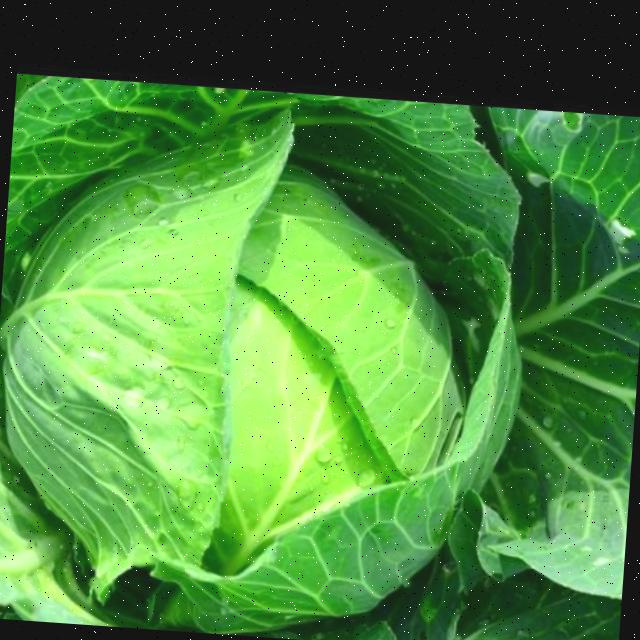cabbage: (0, 129, 490, 640)
